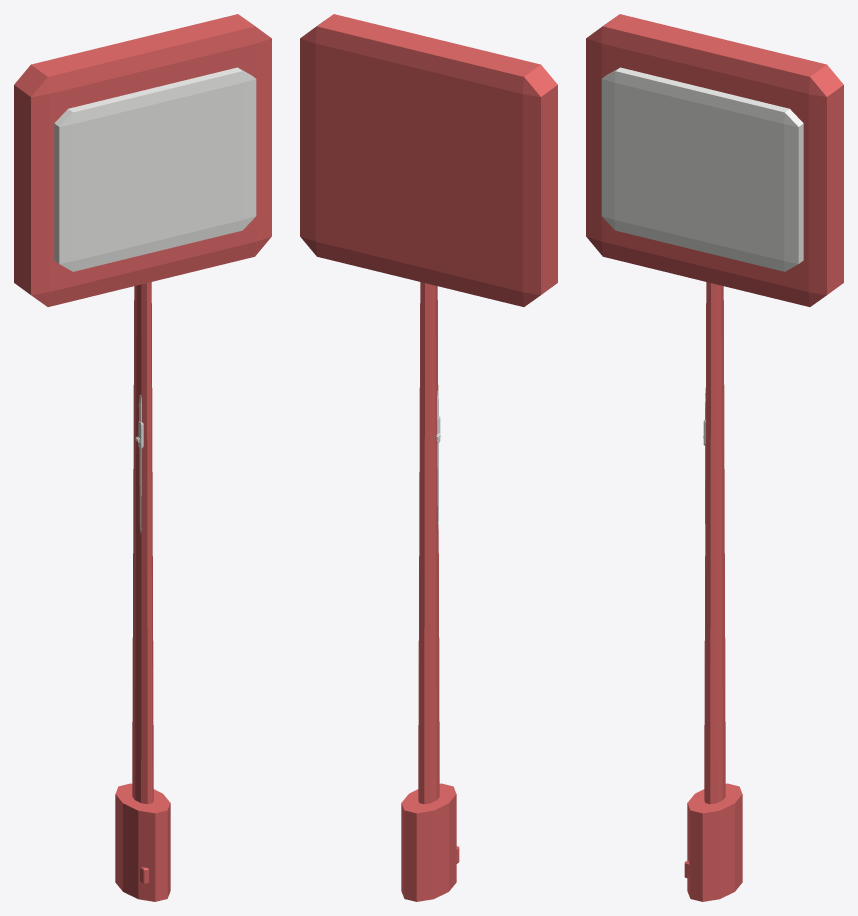
The model's file is b02_do_not_enter.glb.
3 views of the same model, side by side, from view 1: azimuth 30°, elevation 25°; view 2: azimuth 150°, elevation 25°; view 3: azimuth 330°, elevation 25° (orthographic).
Parts seen in each view (by area): view 1: b02_do_not_enter; view 2: b02_do_not_enter; view 3: b02_do_not_enter.
Boxes of the visible parts, box(x1,y1,x2,y2) form: b02_do_not_enter: box(14, 14, 271, 901); b02_do_not_enter: box(300, 14, 557, 901); b02_do_not_enter: box(586, 14, 843, 901).
Size of the model in its own units: 0.74 by 2.47 by 0.196.
